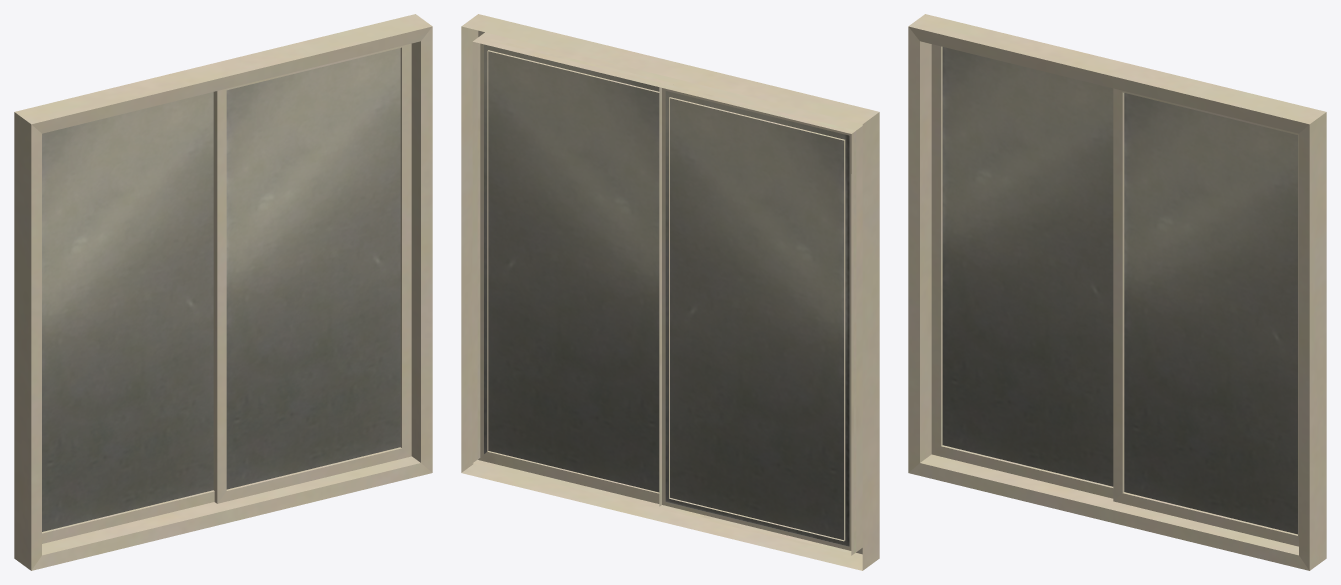
File: Window_0.75m_005.fbx
The picture shows the model from 3 angles, left to right: view 1: azimuth 30°, elevation 25°; view 2: azimuth 150°, elevation 25°; view 3: azimuth 330°, elevation 25°; orthographic projection.
Visible parts, largest first — view 1: Window_0.75m_005; view 2: Window_0.75m_005; view 3: Window_0.75m_005.
Boxes of the visible parts, x1,y1,x2,y2 form: Window_0.75m_005: [14, 14, 432, 570]; Window_0.75m_005: [461, 14, 879, 570]; Window_0.75m_005: [908, 14, 1326, 570].
Size of the model in its own units: 70.52 by 75 by 5.2.
Materials: 1 (1 with a texture image).
